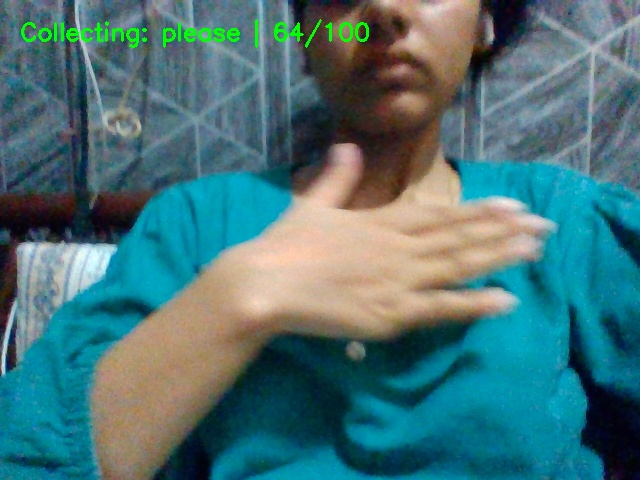please: (210, 122, 583, 357)
